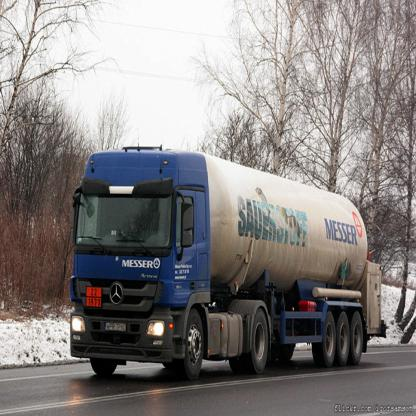Truck: (65, 154, 369, 393)
